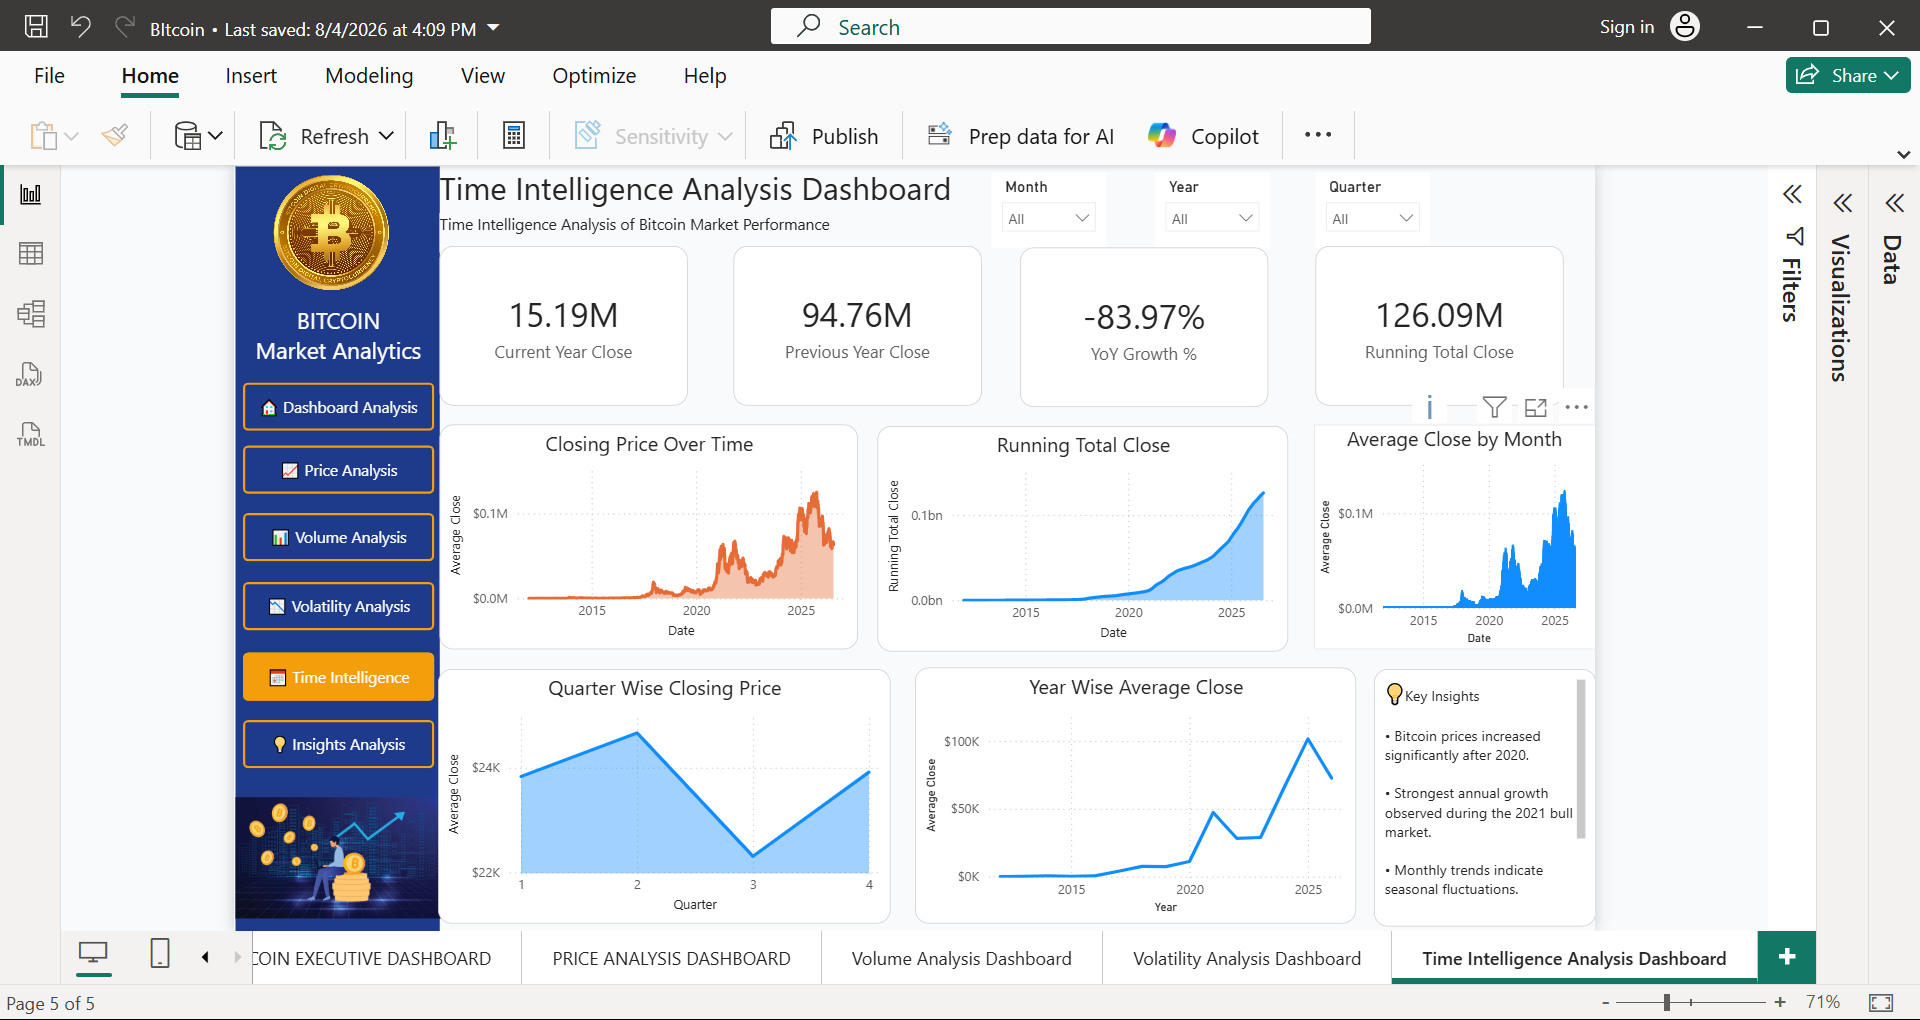

The dashboard page shown, as its layout file describes it:
{"tool":"powerbi","page":{"name":"Time Intelligence Analysis Dashboard","canvas":[1280,720],"ordinal":4},"visuals":[{"type":"shape","box":[0.7,1.7,192.3,719.2],"z":0},{"type":"image","box":[0.7,1.7,180.2,124.2],"z":1000},{"type":"textbox","box":[2.3,125.8,190.6,80.2],"z":2000},{"type":"actionButton","box":[8.6,204.9,179.7,45.3],"z":3000},{"type":"actionButton","box":[8.6,264.3,179.7,45.3],"z":4000},{"type":"actionButton","box":[8.6,392.5,179.7,45.3],"z":5000},{"type":"actionButton","box":[8.6,326.8,179.7,45.3],"z":6000},{"type":"actionButton","box":[8.6,458.1,179.7,45.3],"z":7000},{"type":"actionButton","box":[8.6,522.2,179.7,45.3],"z":8000},{"type":"image","box":[0.7,580.7,192.5,140.4],"z":9000},{"type":"shape","title":"Time Intelligence Analysis Dashboard","box":[192.5,1.7,1088.5,80.4],"z":10000},{"type":"shape","box":[702.5,1.7,578.3,79.7],"z":11000},{"type":"slicer","fields":{"Values":["Bitcoin_Cleaned_Daily.Month"]},"box":[711.9,6.4,107.8,70.3],"z":12000},{"type":"slicer","fields":{"Values":["Bitcoin_Cleaned_Daily.Year"]},"box":[865.1,6.4,107.8,70.3],"z":13000},{"type":"slicer","fields":{"Values":["Bitcoin_Cleaned_Daily.Quarter"]},"box":[1016.7,6.4,107.8,70.3],"z":14000},{"type":"textbox","box":[1071.2,473.6,208.8,242.1],"z":15000},{"type":"card","fields":{"Values":["Bitcoin_Cleaned_Daily.Current Year Close"]},"box":[192.9,75.9,233,149.8],"z":16000},{"type":"card","fields":{"Values":["Bitcoin_Cleaned_Daily.Previous Year Close"]},"box":[469.8,75.9,233,149.8],"z":17000},{"type":"card","fields":{"Values":["Bitcoin_Cleaned_Daily.YoY Growth %"]},"box":[739.1,77.4,233,149.8],"z":18000},{"type":"card","fields":{"Values":["Bitcoin_Cleaned_Daily.Running Total Close"]},"box":[1016,75.9,233,149.8],"z":19000},{"type":"areaChart","title":"Closing Price Over Time","fields":{"Y":["Bitcoin_Cleaned_Daily.Average Close"],"Category":["Bitcoin_Cleaned_Daily.Date"]},"box":[193.2,243.9,393.4,211.5],"z":20000},{"type":"stackedAreaChart","title":"Running Total Close","fields":{"Category":["Bitcoin_Cleaned_Daily.Date"],"Y":["Bitcoin_Cleaned_Daily.Running Total Close"]},"box":[605.2,245.1,385.8,211.8],"z":21000},{"type":"areaChart","title":"Quarter Wise Closing Price","fields":{"Category":["Bitcoin_Cleaned_Daily.Quarter"],"Y":["Bitcoin_Cleaned_Daily.Average Close"]},"box":[192.2,473.6,425.2,239.1],"z":22000},{"type":"lineChart","title":"Year Wise Average Close","fields":{"Category":["Bitcoin_Cleaned_Daily.Year"],"Y":["Bitcoin_Cleaned_Daily.Average Close"]},"box":[640,472.1,414.6,240.6],"z":23000},{"type":"clusteredColumnChart","title":"Average Close by Month","fields":{"Category":["Bitcoin_Cleaned_Daily.Date"],"Y":["Bitcoin_Cleaned_Daily.Average Close"]},"box":[1015.8,244.5,264.2,211.1],"z":24000}]}

Visuals, with their boxes on the page's 1280x720 design canvas (x1, y1, x2, y2). These are canvas units, not pixel positions in the 1920x1020 screenshot, which may show the page scaled, cropped or inside an application window:
shape: (1, 2, 193, 721)
image: (1, 2, 181, 126)
textbox: (2, 126, 193, 206)
actionButton: (9, 205, 188, 250)
actionButton: (9, 264, 188, 310)
actionButton: (9, 392, 188, 438)
actionButton: (9, 327, 188, 372)
actionButton: (9, 458, 188, 503)
actionButton: (9, 522, 188, 568)
image: (1, 581, 193, 721)
"Time Intelligence Analysis Dashboard" shape: (192, 2, 1281, 82)
shape: (702, 2, 1281, 81)
slicer - Bitcoin_Cleaned_Daily.Month: (712, 6, 820, 77)
slicer - Bitcoin_Cleaned_Daily.Year: (865, 6, 973, 77)
slicer - Bitcoin_Cleaned_Daily.Quarter: (1017, 6, 1124, 77)
textbox: (1071, 474, 1280, 716)
card - Bitcoin_Cleaned_Daily.Current Year Close: (193, 76, 426, 226)
card - Bitcoin_Cleaned_Daily.Previous Year Close: (470, 76, 703, 226)
card - Bitcoin_Cleaned_Daily.YoY Growth %: (739, 77, 972, 227)
card - Bitcoin_Cleaned_Daily.Running Total Close: (1016, 76, 1249, 226)
"Closing Price Over Time" areaChart: (193, 244, 587, 455)
"Running Total Close" stackedAreaChart: (605, 245, 991, 457)
"Quarter Wise Closing Price" areaChart: (192, 474, 617, 713)
"Year Wise Average Close" lineChart: (640, 472, 1055, 713)
"Average Close by Month" clusteredColumnChart: (1016, 244, 1280, 456)
